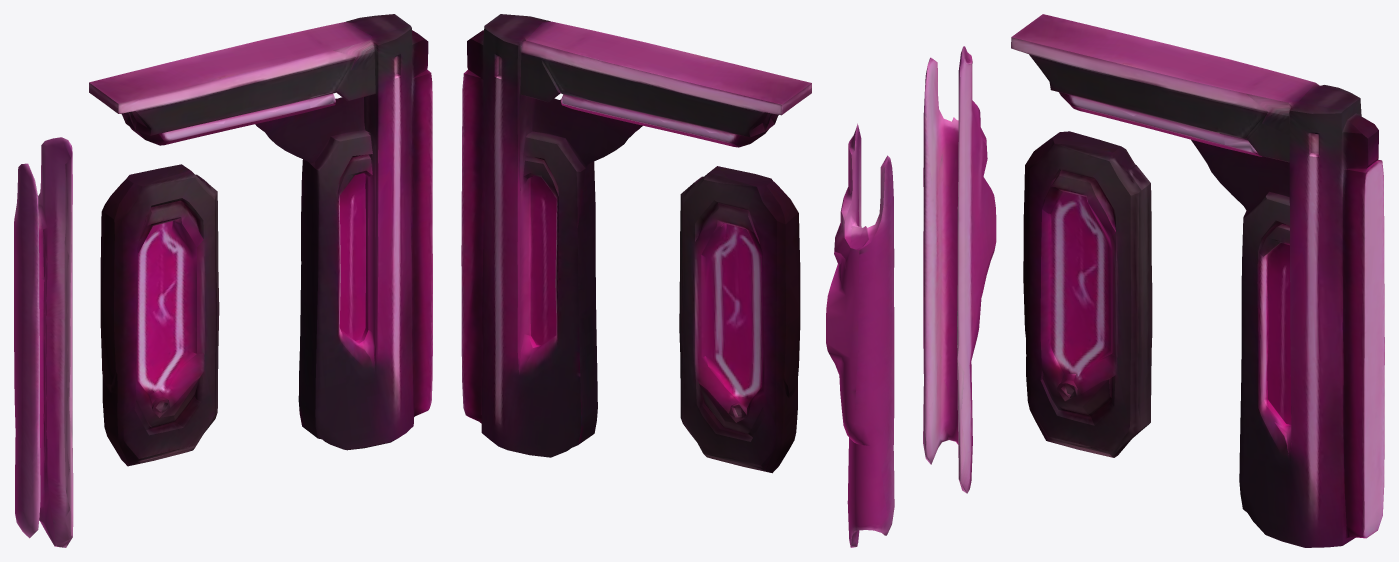
The model's file is m2LaserWall.glb.
3 renders of one model, left to right at view 1: azimuth 30°, elevation 25°; view 2: azimuth 150°, elevation 25°; view 3: azimuth 330°, elevation 25°, orthographic. The views are drawn at different scales.
Parts seen in each view (by area): view 1: model; view 2: model; view 3: model.
Boxes of the visible parts, x1,y1,x2,y2 form: model: [14, 14, 432, 547]; model: [461, 14, 894, 547]; model: [923, 14, 1384, 547].
Bounding box in the file's own units: 1.84 × 1.89 × 0.2576.
Materials: 1 (1 with a texture image).
